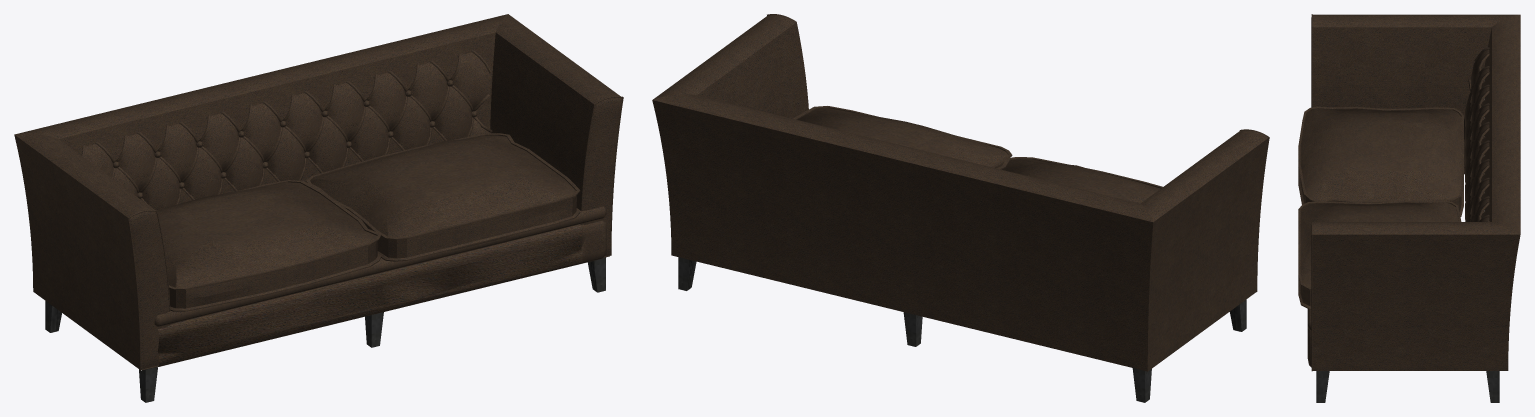
File: sofa.glb
3 views of the same model, side by side, from view 1: azimuth 30°, elevation 25°; view 2: azimuth 150°, elevation 25°; view 3: azimuth 270°, elevation 25° (orthographic). The views are drawn at different scales.
Visible parts, largest first — view 1: Material2 (×2); view 2: Material2 (×2); view 3: Material2 (×2).
Part boxes in pixels (x1,y1,x2,y2): Material2 (×2): (14,14,623,402); Material2 (×2): (652,14,1269,402); Material2 (×2): (1298,14,1520,402).
Size of the model in its own units: 91.66 by 34.43 by 38.97.
Materials: 4 (2 with a texture image).
